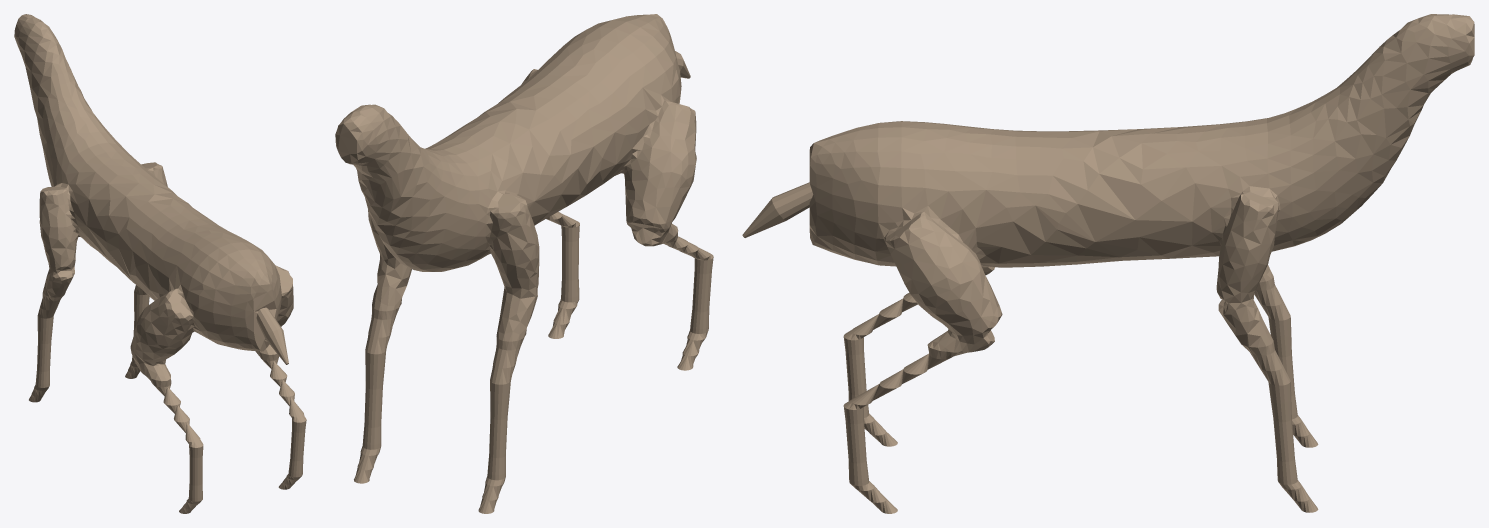
File: stag_body_01.glb
3 views of the same model, side by side, from view 1: azimuth 30°, elevation 25°; view 2: azimuth 150°, elevation 25°; view 3: azimuth 270°, elevation 25° (orthographic). The views are drawn at different scales.
Visible parts, largest first — view 1: ConnectedTorsoAndLimbs, CervidTail; view 2: ConnectedTorsoAndLimbs; view 3: ConnectedTorsoAndLimbs, CervidTail.
Boxes of the visible parts, x1=… form: ConnectedTorsoAndLimbs: x1=14, y1=14, x2=306, y2=513; CervidTail: x1=256, y1=307, x2=288, y2=364; ConnectedTorsoAndLimbs: x1=335, y1=14, x2=713, y2=513; ConnectedTorsoAndLimbs: x1=809, y1=14, x2=1474, y2=513; CervidTail: x1=742, y1=182, x2=813, y2=237.
Size of the model in its own units: 0.6955 by 1.48 by 2.13.
